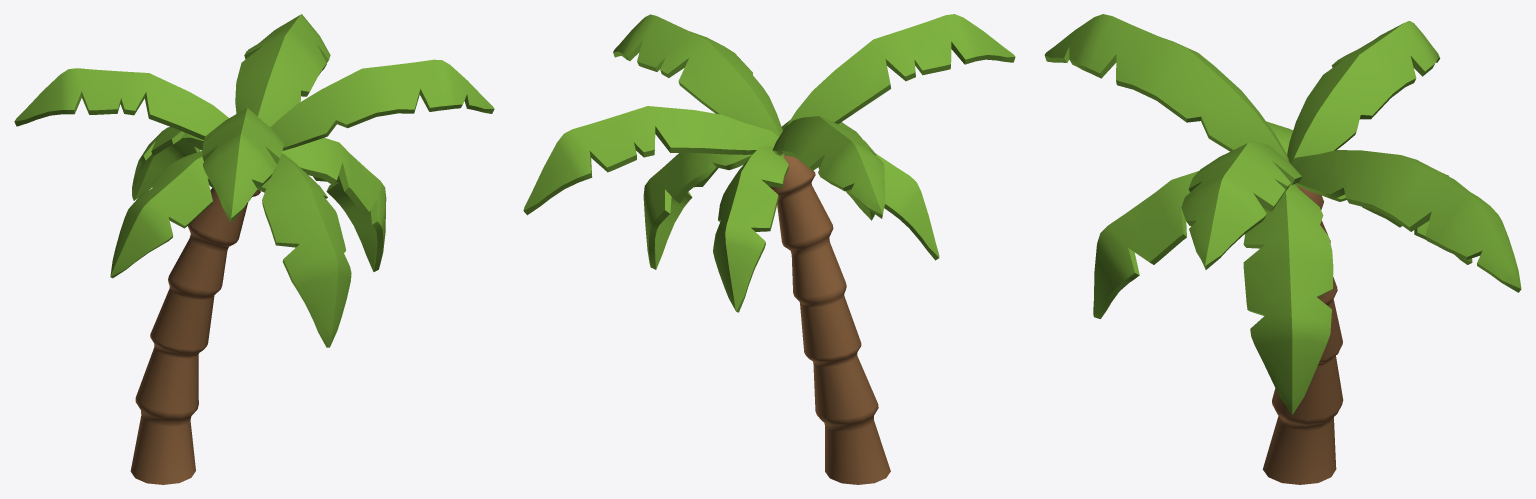
Rendered from Environment_PalmTree_2.gltf.
3 views of the same model, side by side, from view 1: azimuth 30°, elevation 25°; view 2: azimuth 150°, elevation 25°; view 3: azimuth 270°, elevation 25° (orthographic). The views are drawn at different scales.
Visible parts, largest first — view 1: Environment_PalmTree_2; view 2: Environment_PalmTree_2; view 3: Environment_PalmTree_2.
Part boxes in pixels (box(x1,y1,x2,y2)): Environment_PalmTree_2: box(14, 14, 494, 484); Environment_PalmTree_2: box(523, 14, 1015, 484); Environment_PalmTree_2: box(1044, 14, 1521, 484).
Bounding box in the file's own units: 2.64 × 2.69 × 2.58.
Materials: 1 (1 with a texture image).
